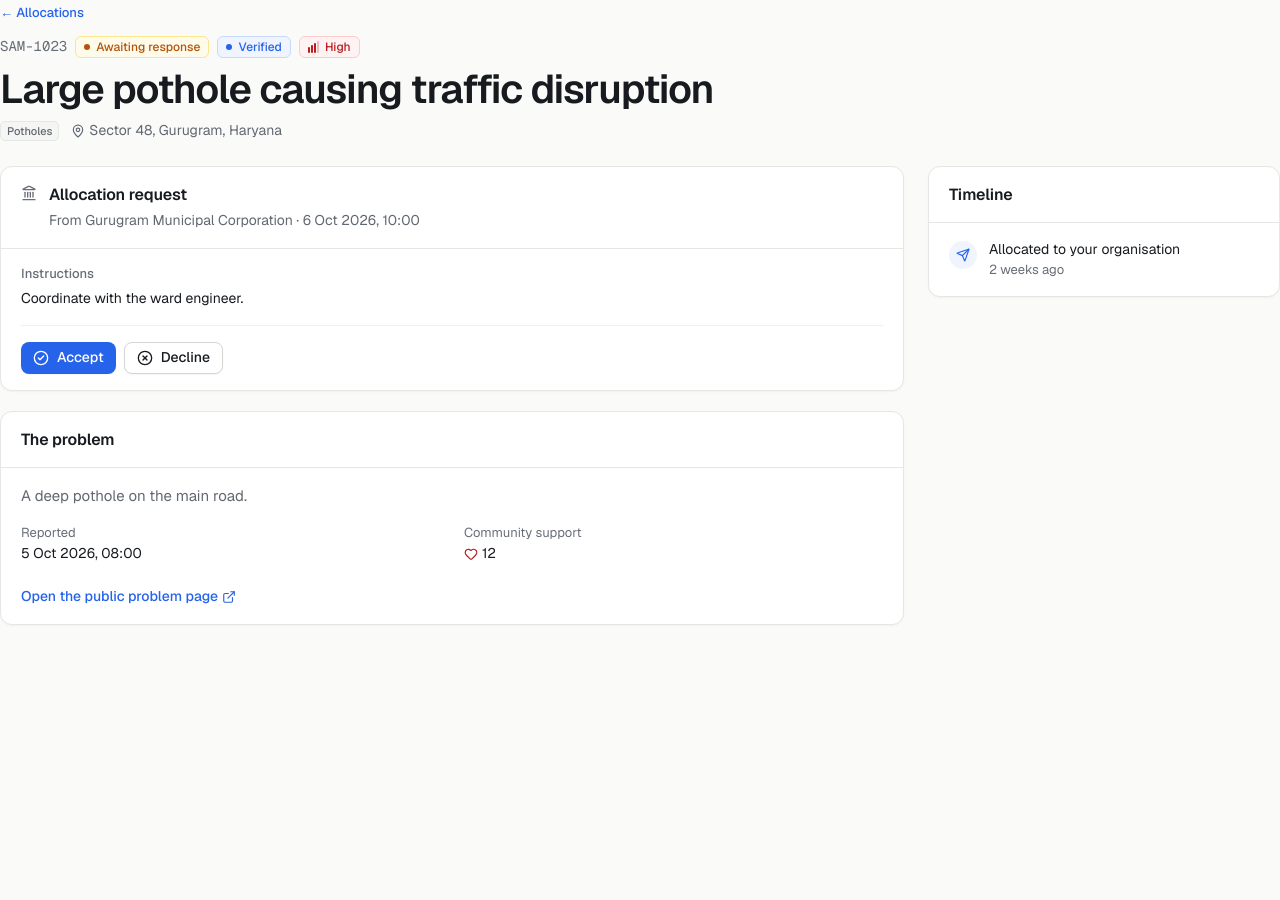
Test: OrganizationAllocationDetail › explains when another member responded first
Click the button "Accept": (68,358) [21, 342, 116, 374]
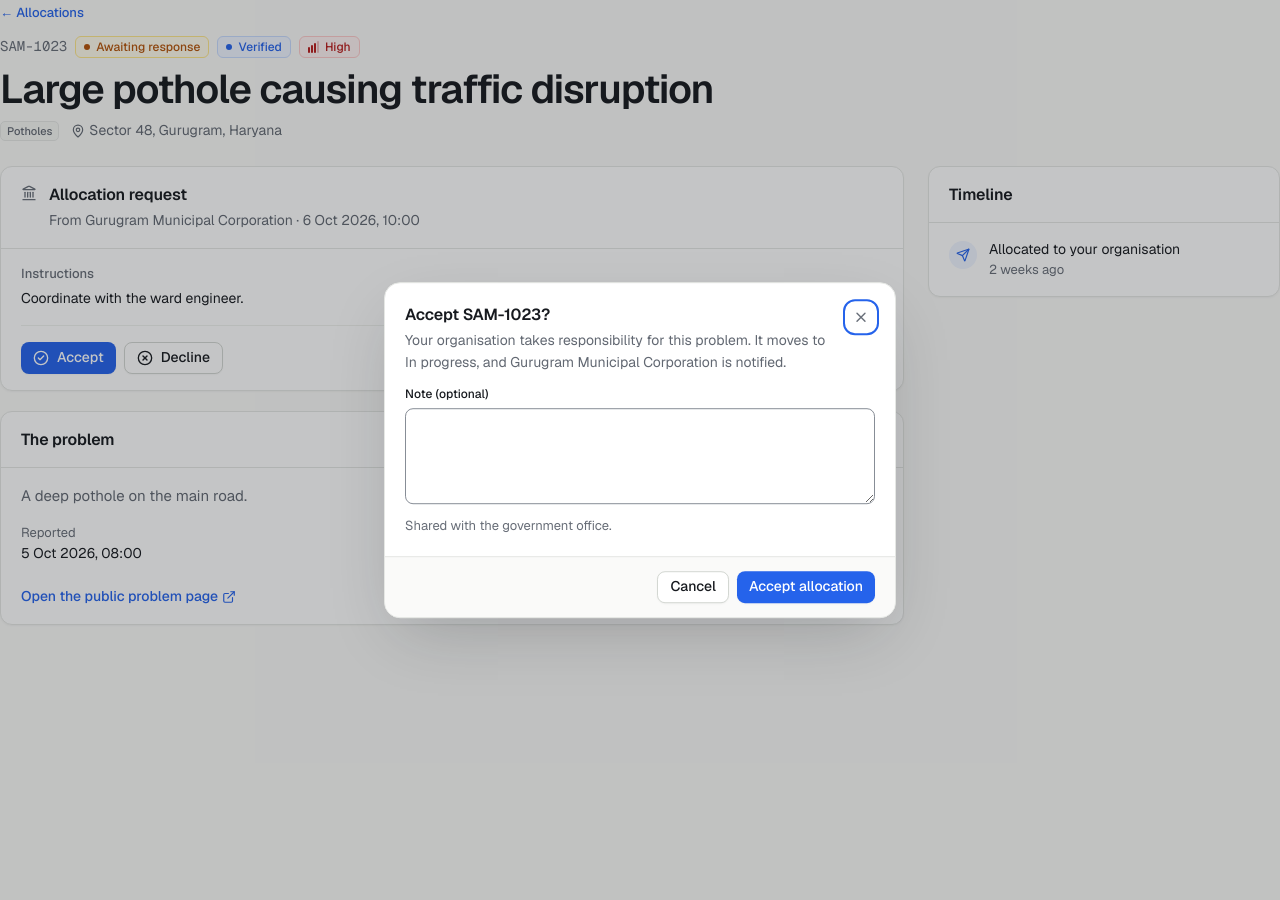
Click the button "Accept allocation": (806,587) [737, 571, 875, 603]
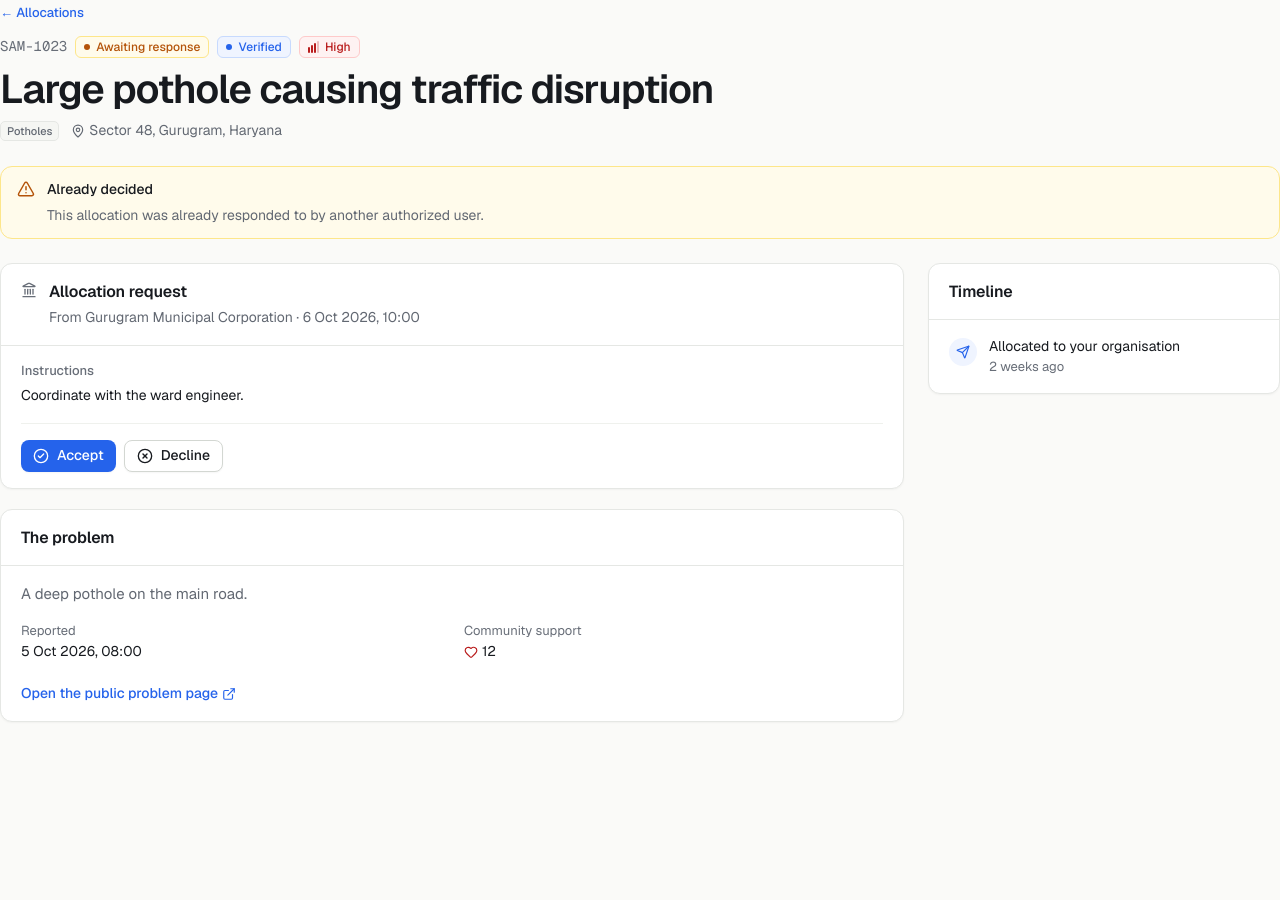
Expected: the text "This allocation was already responded to by another authorized user." is shown, [47, 206, 484, 224]
Expected: the dialog is gone
